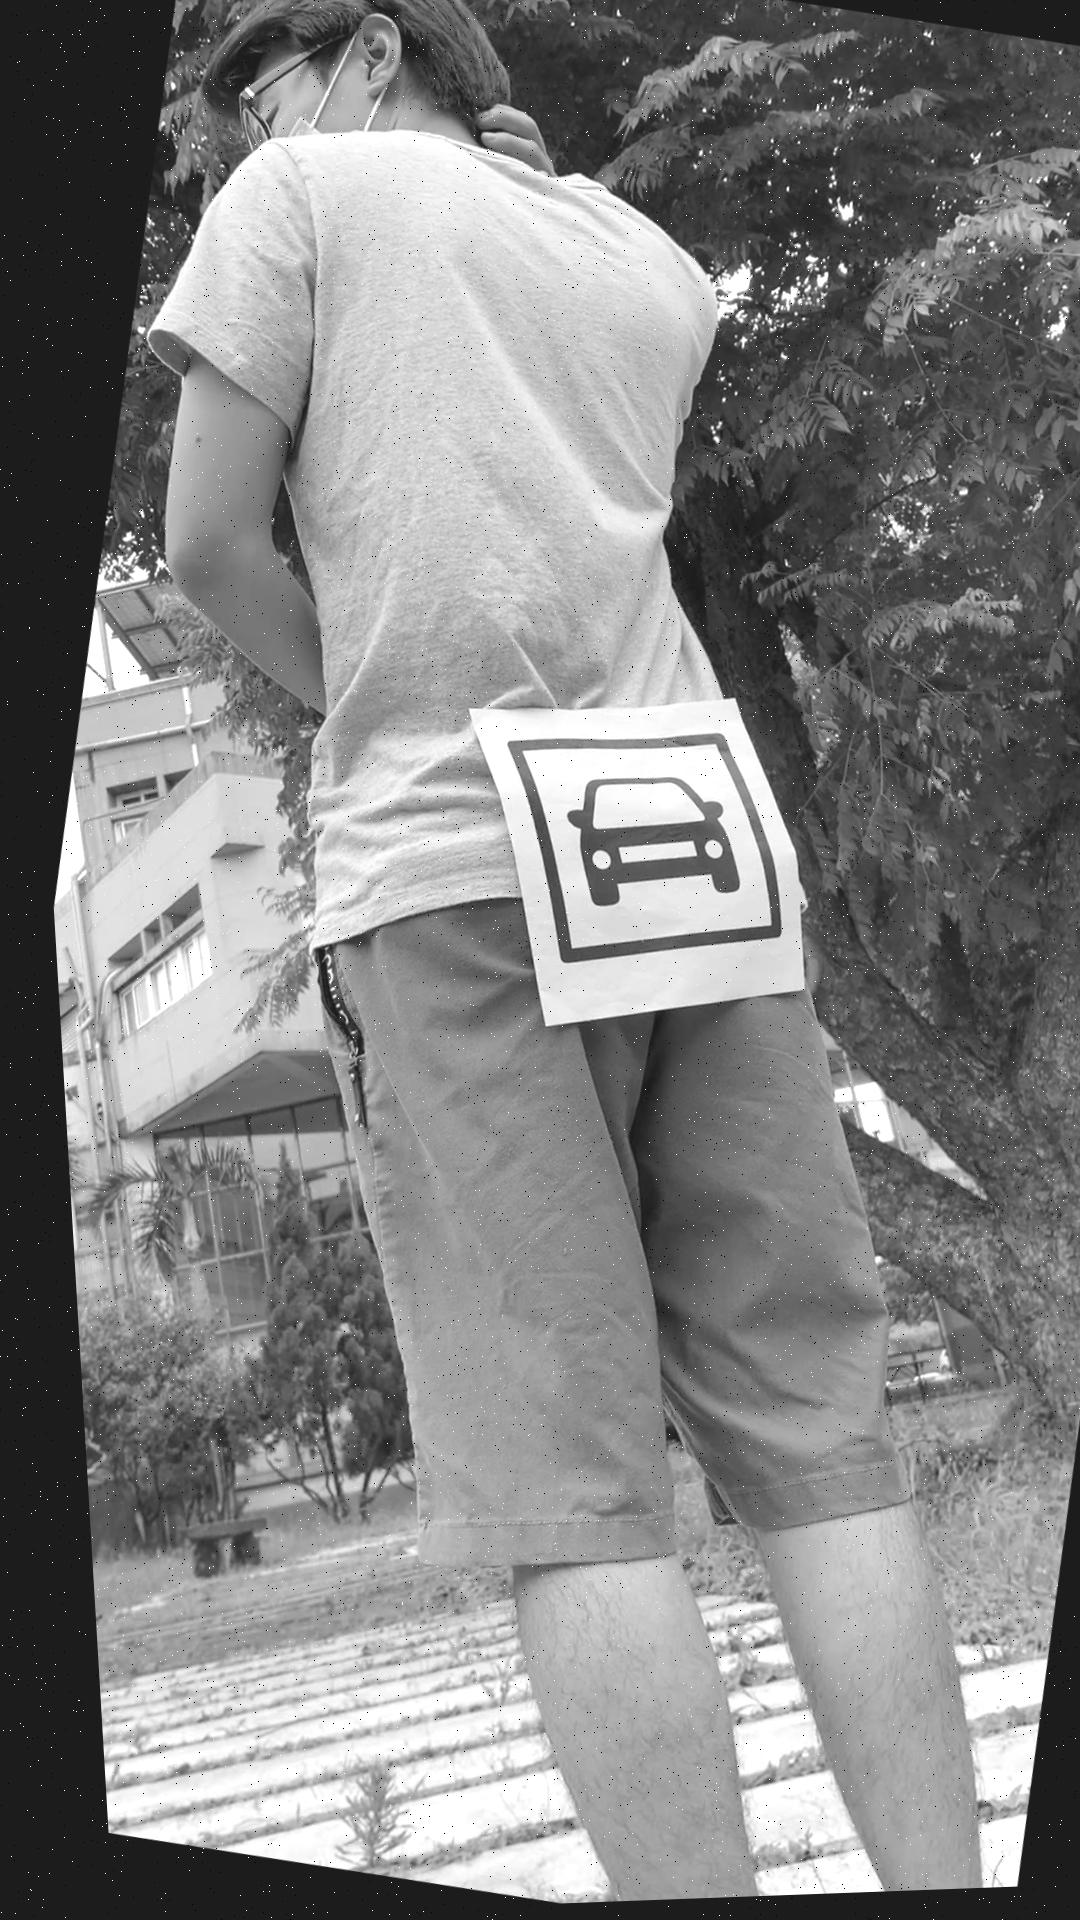car_img: (455, 694, 810, 1010)
